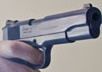pistol: (1, 3, 102, 69)
